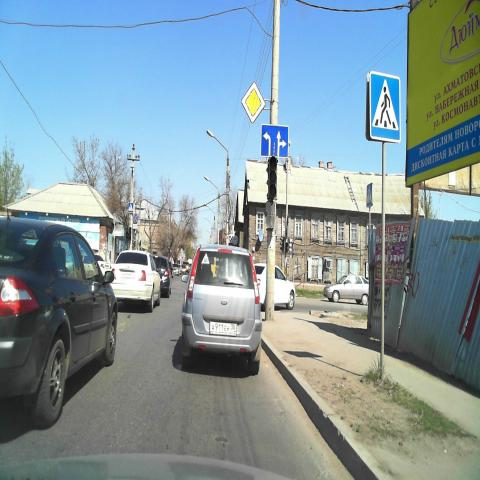2_1: (241, 80, 266, 123)
3_27: (132, 213, 138, 223)
5_15_2_2: (260, 124, 289, 158)
5_19_1: (365, 72, 401, 142), (366, 182, 372, 208), (128, 203, 133, 213)
